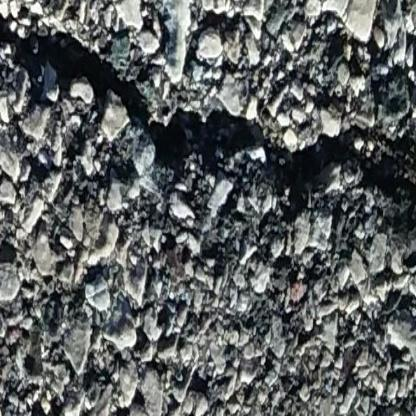Cracks: (0, 4, 416, 278)
